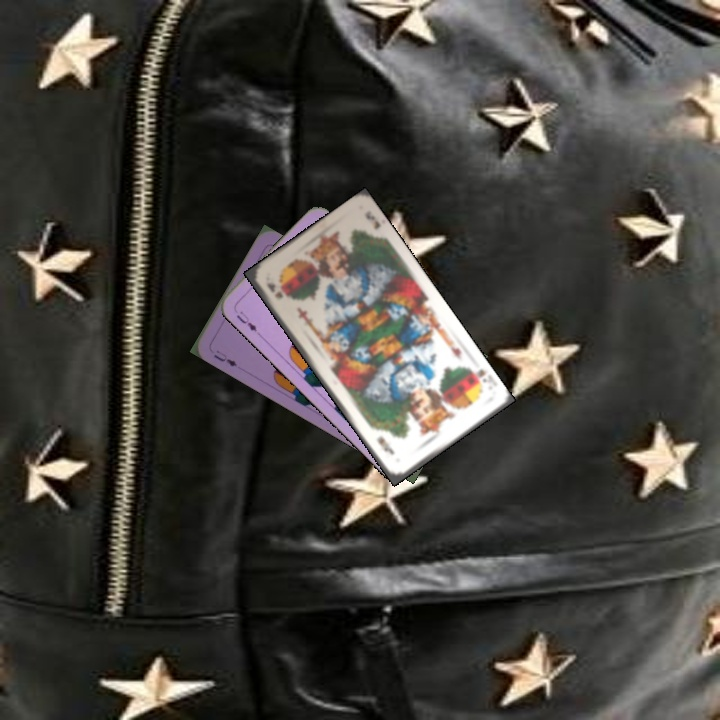EU: (232, 307, 260, 334), (209, 346, 240, 369)
SK: (464, 364, 489, 394), (262, 279, 285, 301)
